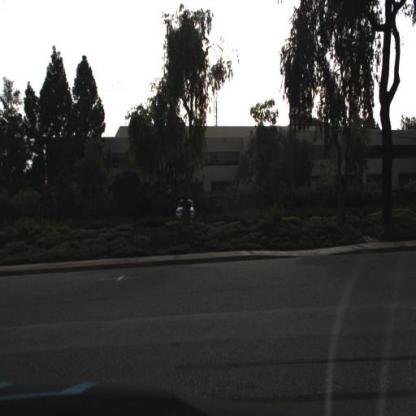car: (174, 194, 197, 222)
